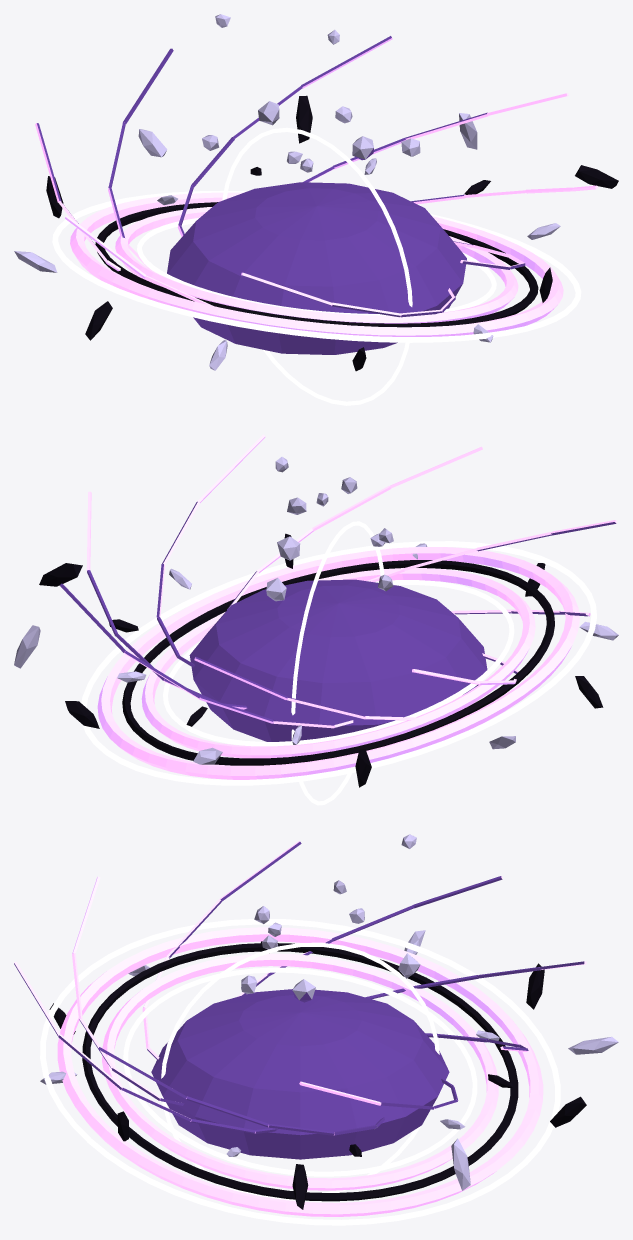
The model's file is fruto-gravidade.glb.
3 renders of one model, top to bottom at view 1: azimuth 30°, elevation 25°; view 2: azimuth 150°, elevation 25°; view 3: azimuth 270°, elevation 25°, orthographic.
Parts seen in each view (by area): view 1: Fruit_Body; view 2: Fruit_Body; view 3: Fruit_Body.
Boxes of the visible parts, x1=… form: Fruit_Body: x1=14, y1=14, x2=618, y2=405; Fruit_Body: x1=14, y1=434, x2=618, y2=805; Fruit_Body: x1=14, y1=834, x2=618, y2=1225.
Bounding box in the file's own units: 2.86 × 1.75 × 2.76.
